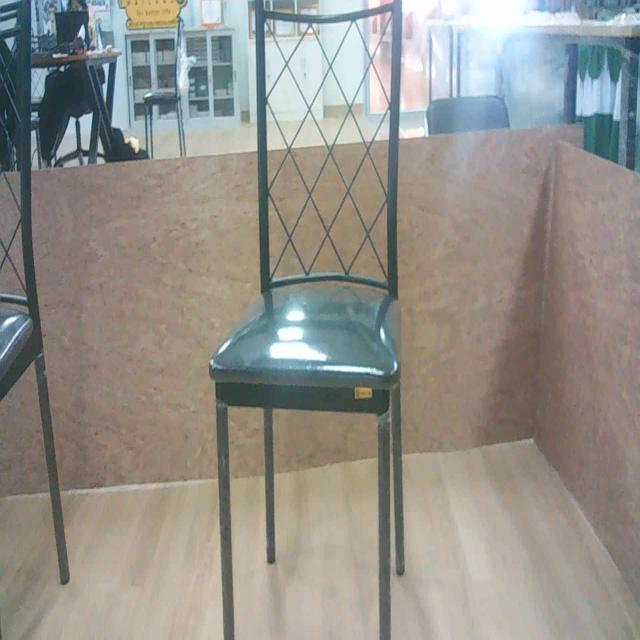emtpy: (202, 4, 419, 640)
